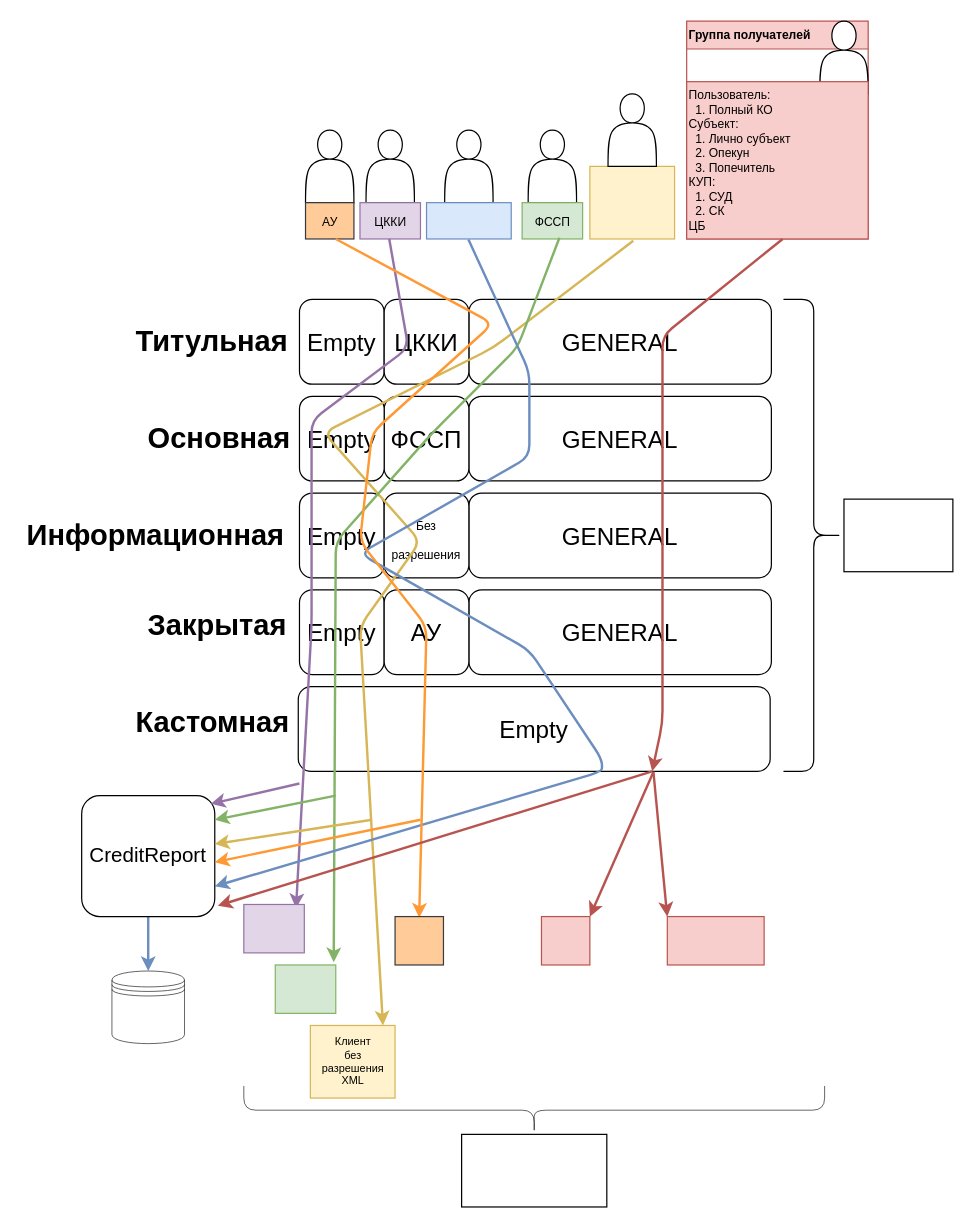
Image size: 974x1228. Some labels were removed from this diagram. Here are the shapes that lost their labels. From the top down, the centre of each, then its label:
At [468,220]: "Нотариус".
At [632,202]: "Клиент без соглашения".
At [898,535]: "Варианты построения частей КО".
At [273,928]: "ЦККИ XML".
At [418,940]: "АУ XML".
At [565,940]: "ЦБ XML".
At [715,940]: "Пользователь XML".
At [147,1006]: "report.doc".
At [305,988]: "ФССП XML".
At [533,1170]: "Варианты построителей финального КО".
